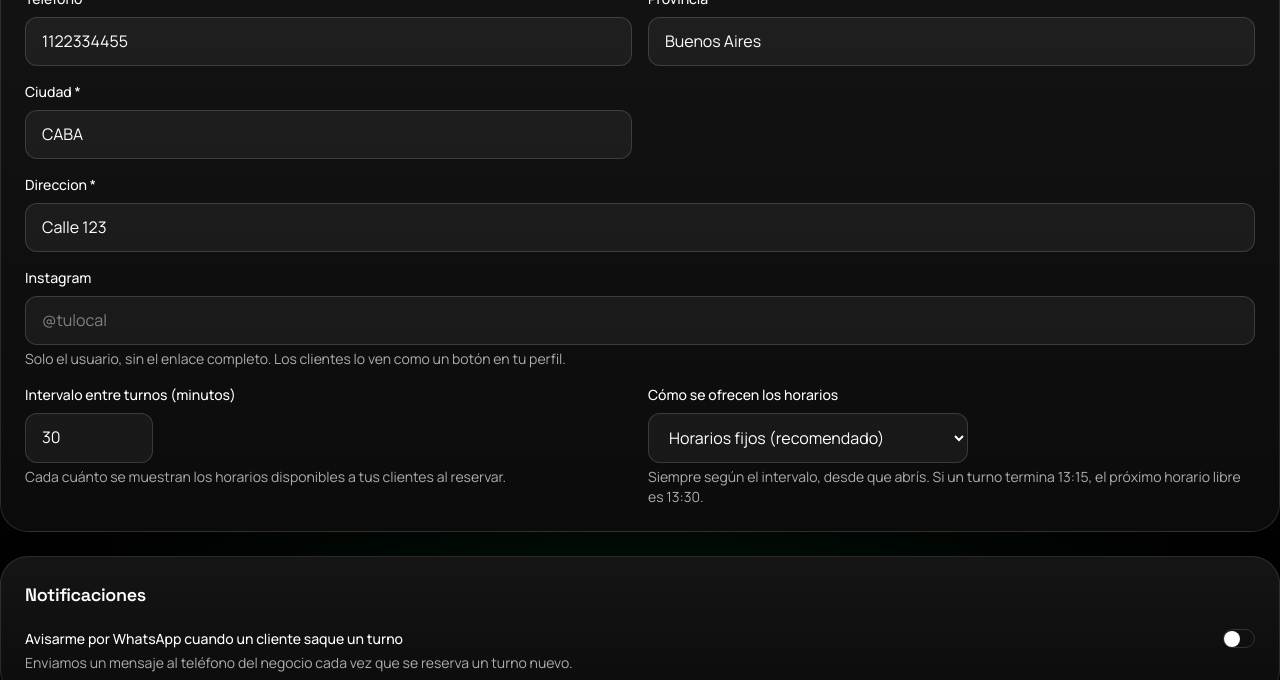
it: LocalProfilePage Instagram field › shows the backend message when the handle is invalid
This screenshot has width=1280, height=680.
(page scrolled)
In the field labelled "Instagram": (640, 321) 25,296 -> 1255,345, type "no valido!"
(page scrolled)
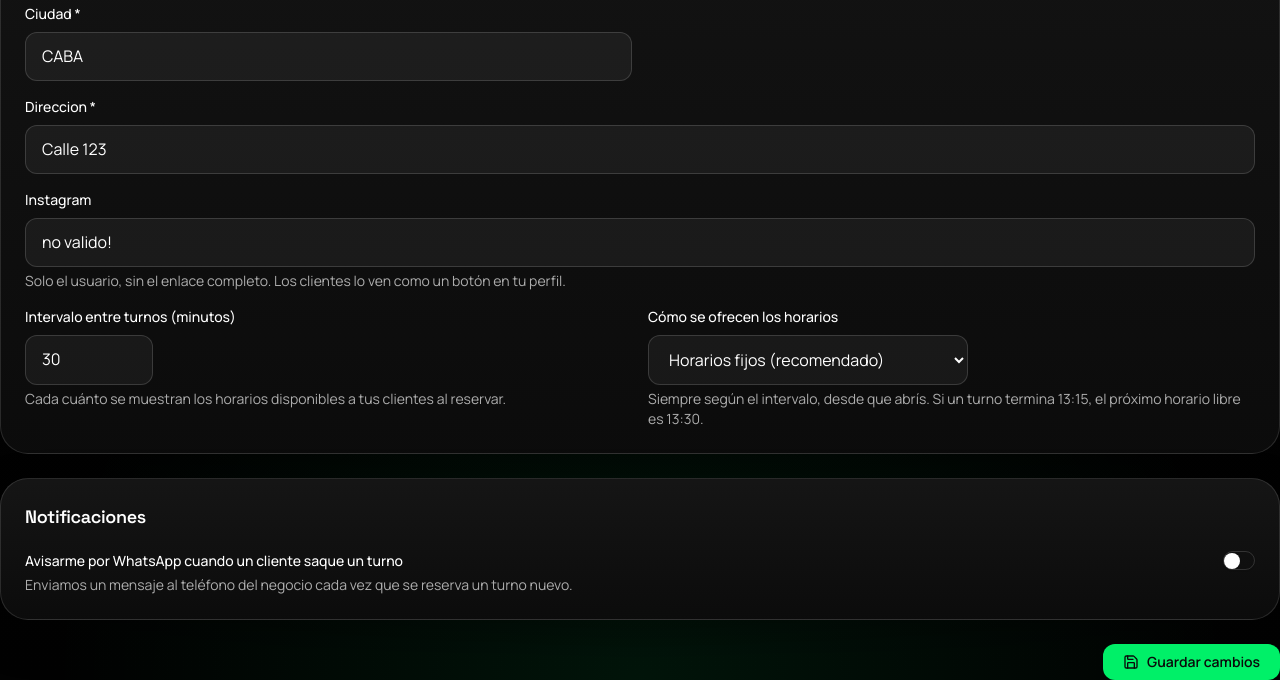
Click the button "Guardar cambios": (1192, 662) 1103,644 -> 1279,679
(page scrolled)
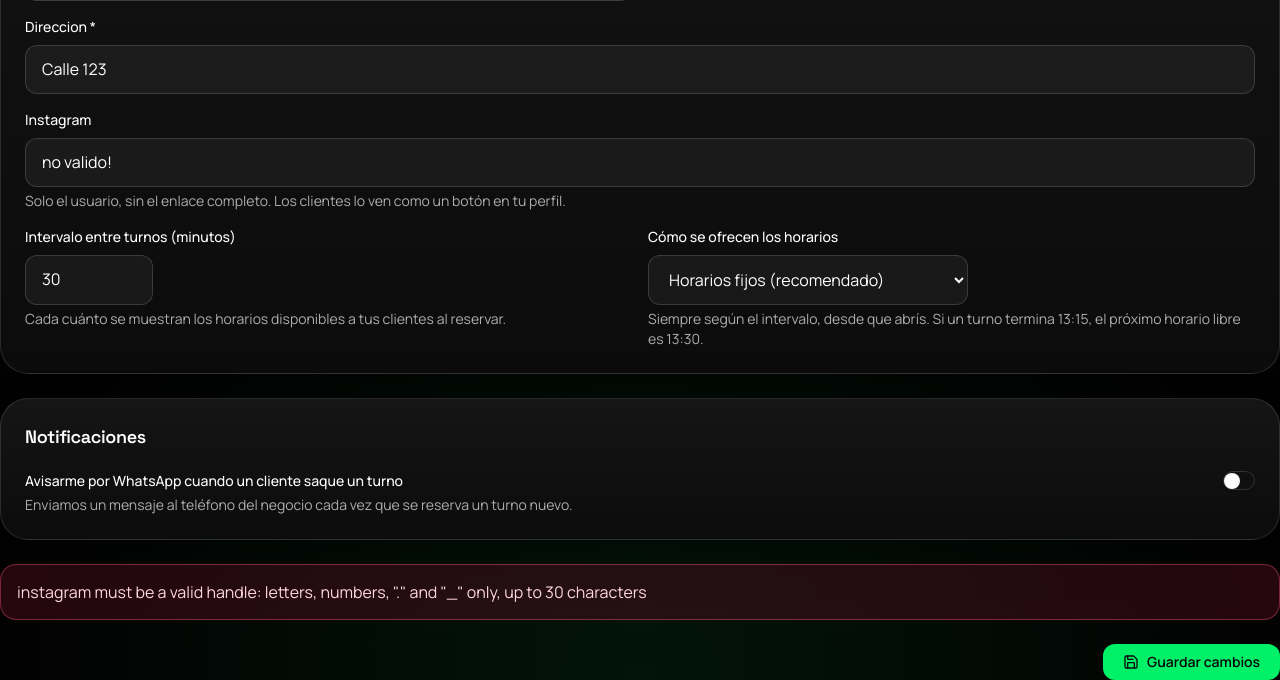
Result: the text "instagram must be a valid handle" is shown at 17,580 -> 647,602
